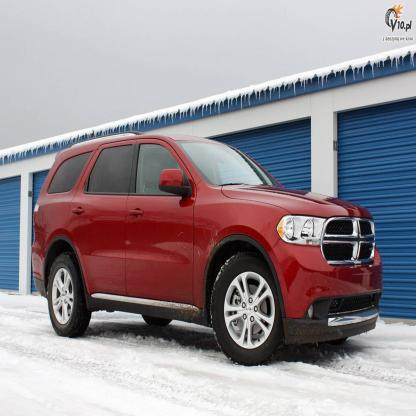car: (30, 132, 383, 366)
